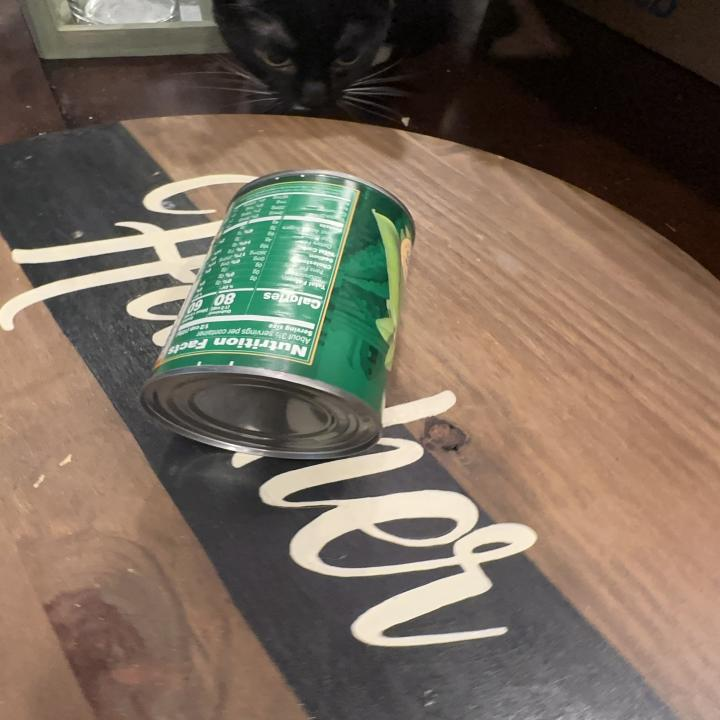Canned-Peas: (146, 162, 418, 470)
